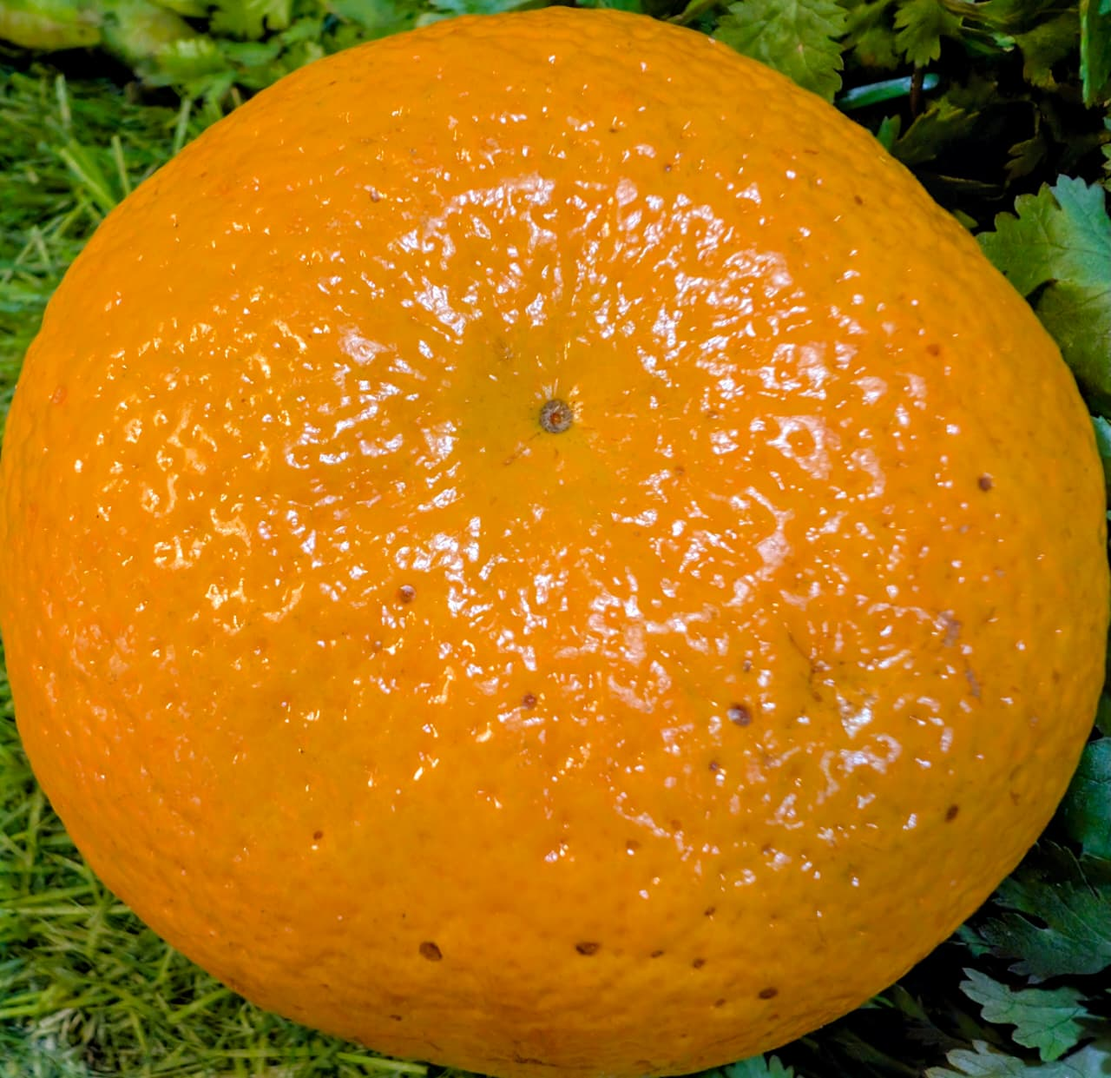orange: (128, 210, 863, 1044)
